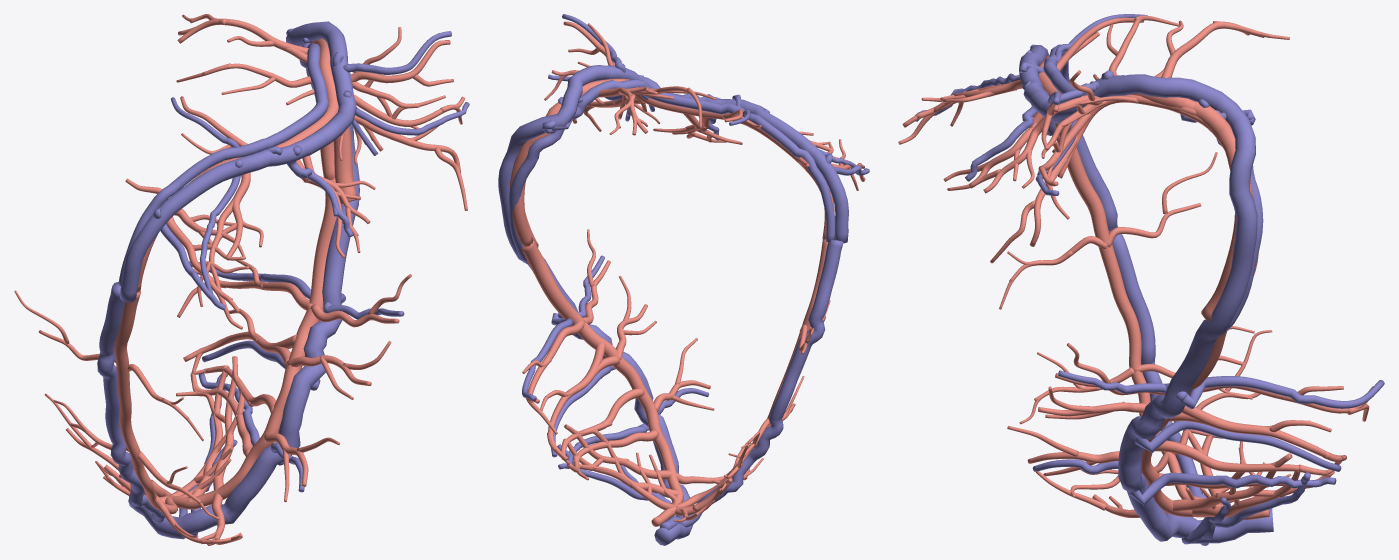
File: vessels_22.glb
The picture shows the model from 3 angles, left to right: view 1: azimuth 30°, elevation 25°; view 2: azimuth 150°, elevation 25°; view 3: azimuth 270°, elevation 25°; orthographic projection. The views are drawn at different scales.
Parts seen in each view (by area): view 1: Renderer Node; view 2: Renderer Node; view 3: Renderer Node.
Boxes of the visible parts, left/top/right/bottom form: Renderer Node: left=14, top=14, right=469, bottom=545; Renderer Node: left=498, top=14, right=869, bottom=545; Renderer Node: left=898, top=14, right=1384, bottom=545.
Bounding box in the file's own units: 93.93 × 121 × 94.26.
